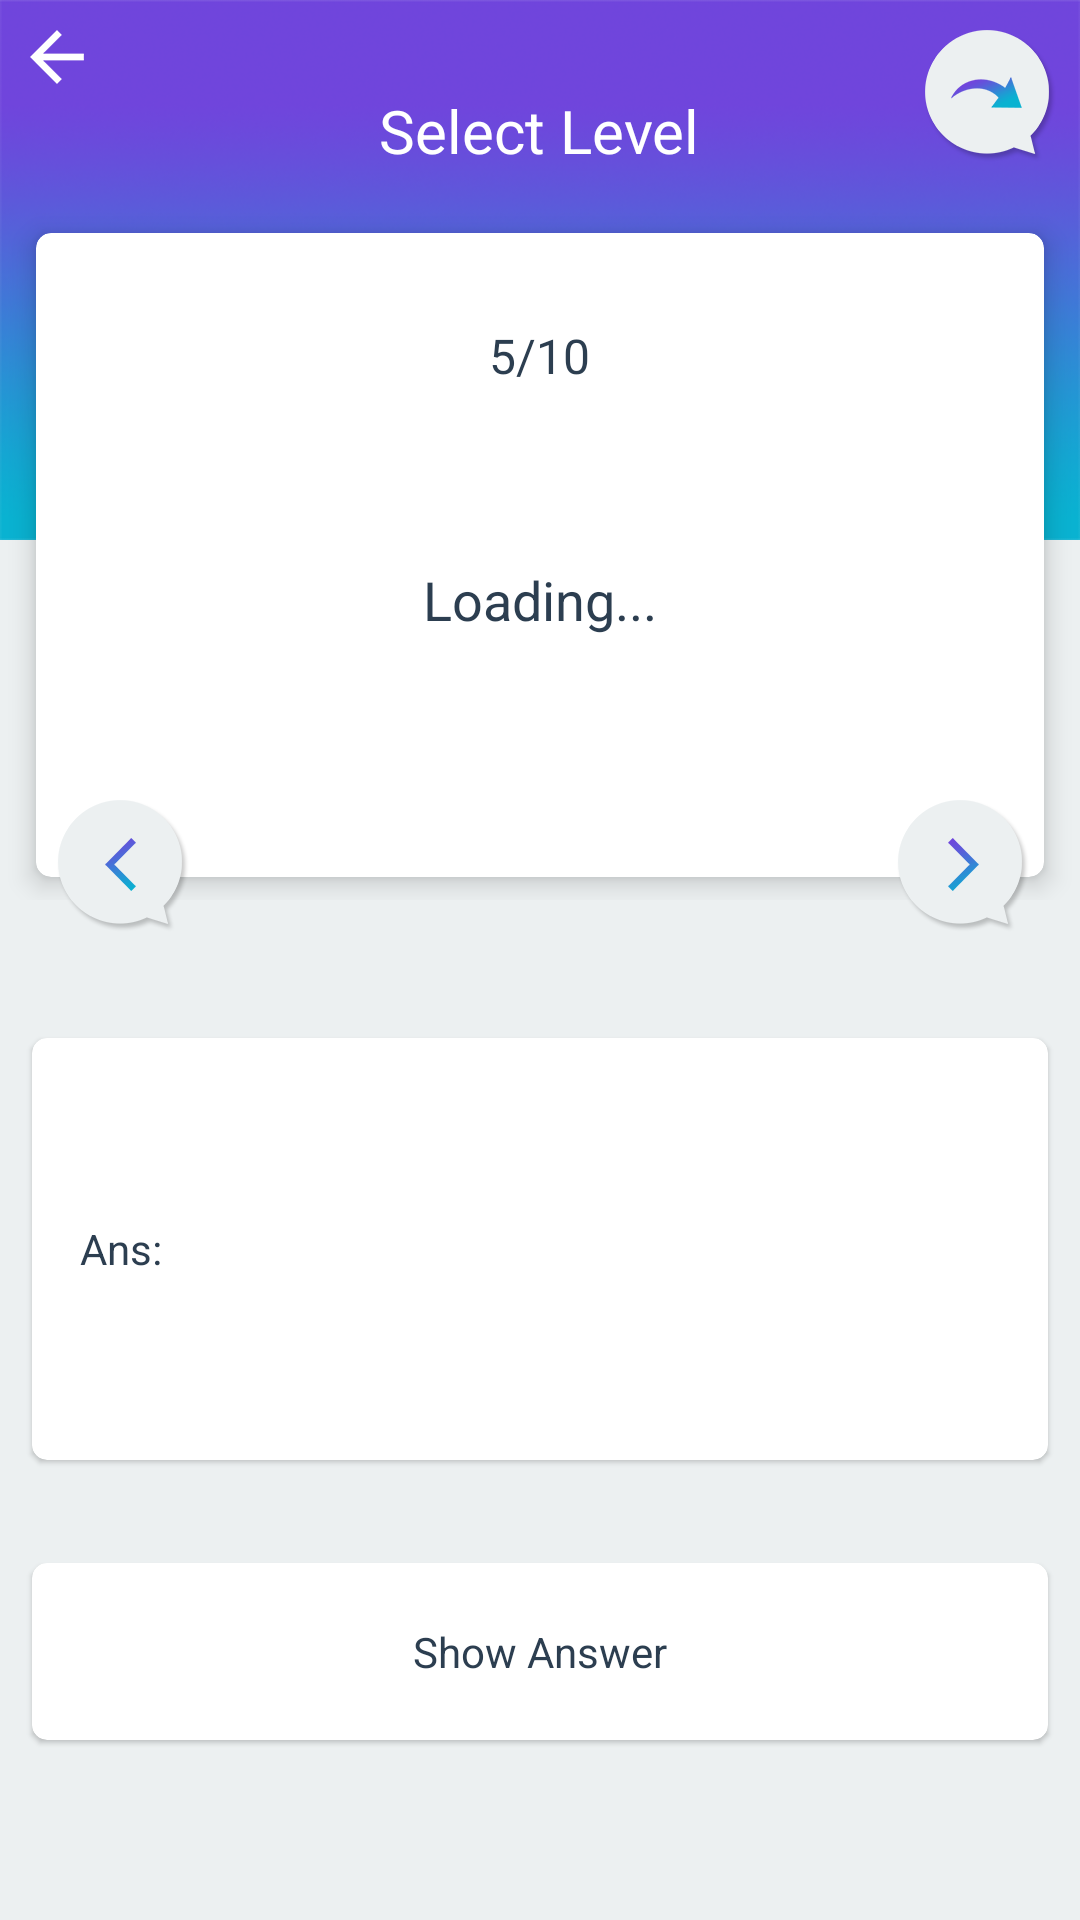

Point at icon controls on the screen. Image size 1080px×1920px, points as (x,y).
back: (57,57)
next: (960,867)
pre: (120,867)
